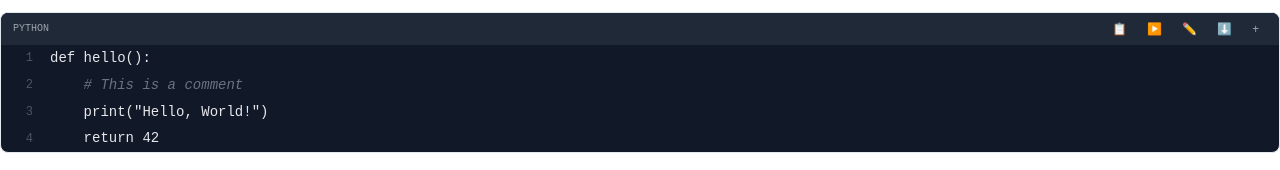
CodeBlock › edit button toggles editable textarea
Step 1. Click the button titled "Edit" → (1190, 29), box x1=1174 y1=19 x2=1205 y2=39
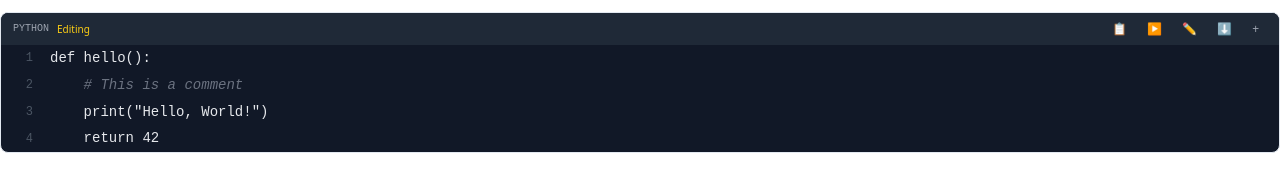
Now the text "Editing" is shown, box x1=57 y1=21 x2=90 y2=37
Step 2. Click the button titled "Edit" → (1190, 29), box x1=1174 y1=19 x2=1205 y2=39
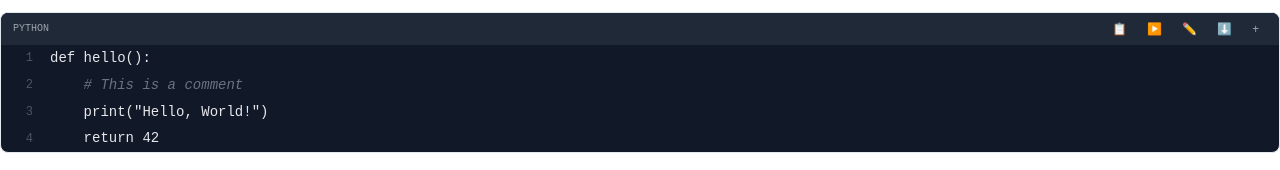
Now the text "Editing" is gone
